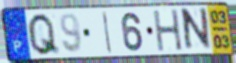6: (120, 10, 145, 53)
9: (58, 13, 84, 55)
H: (151, 8, 185, 53)
I: (102, 10, 114, 55)
N: (181, 6, 212, 54)
Q: (26, 12, 62, 57)
